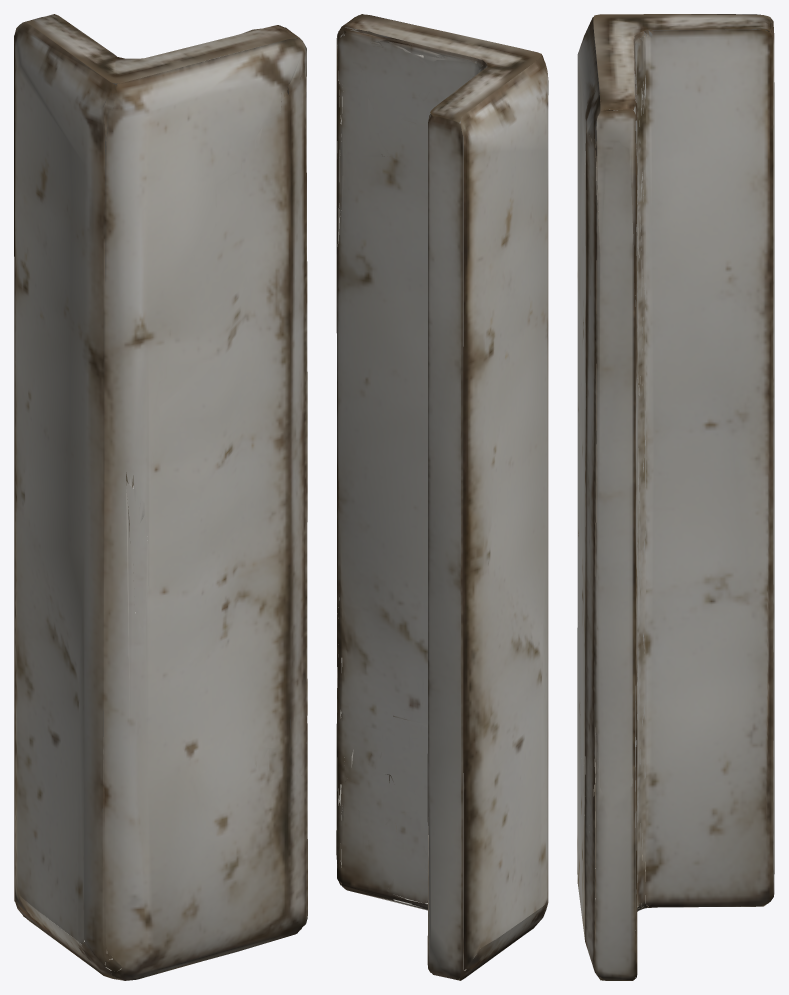
The model's file is game.glb.
3 views of the same model, side by side, from view 1: azimuth 30°, elevation 25°; view 2: azimuth 150°, elevation 25°; view 3: azimuth 270°, elevation 25° (orthographic). The views are drawn at different scales.
Visible parts, largest first — view 1: node_0; view 2: node_0; view 3: node_0.
Boxes of the visible parts, left/top/right/bottom form: node_0: left=14, top=14, right=307, bottom=980; node_0: left=336, top=14, right=548, bottom=980; node_0: left=577, top=14, right=774, bottom=980.
Bounding box in the file's own units: 0.2863 × 1.16 × 0.2356.
1 material, 1 textured.
